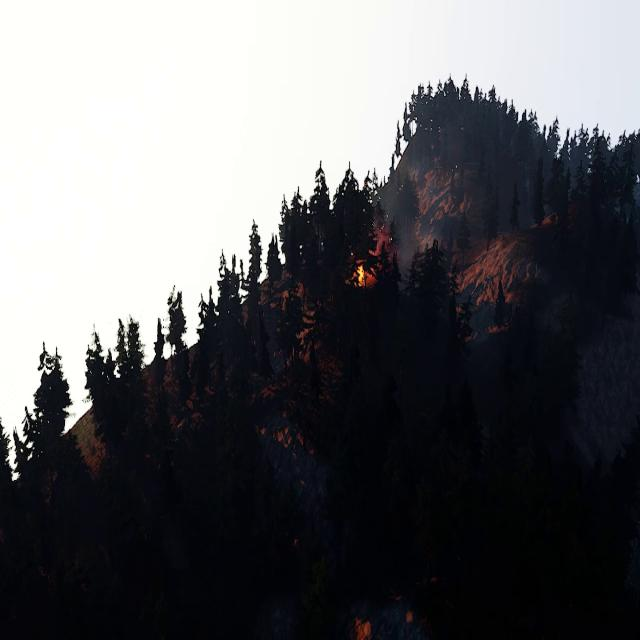fire: (354, 266, 366, 285)
smoke: (370, 222, 392, 258)
